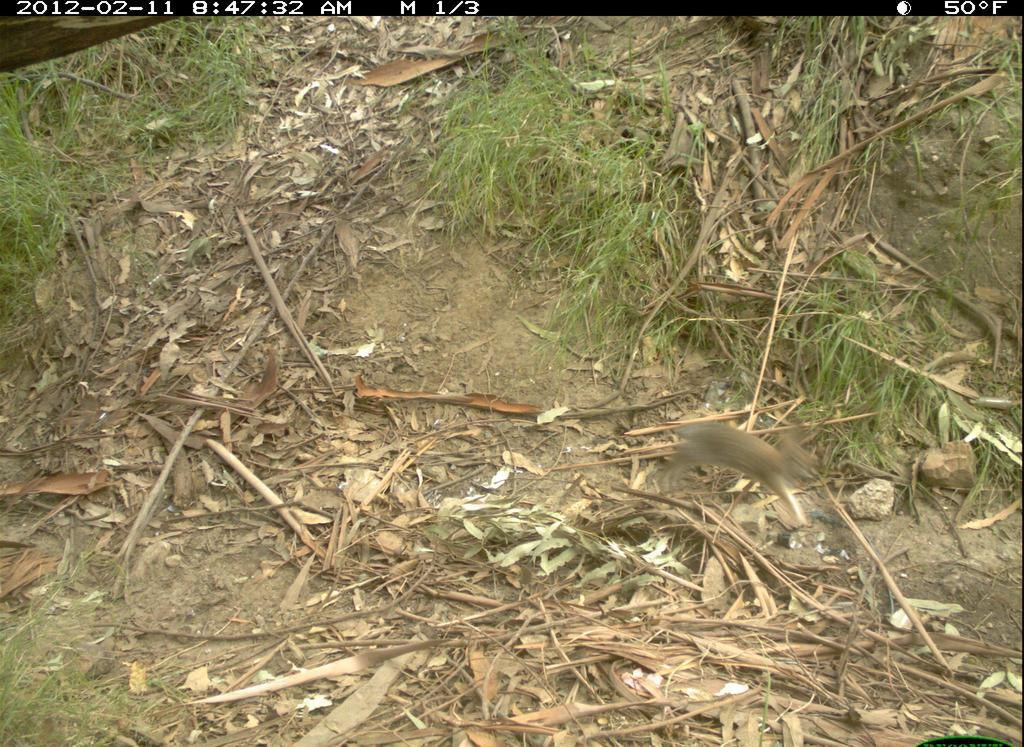rabbit: (633, 395, 825, 546)
